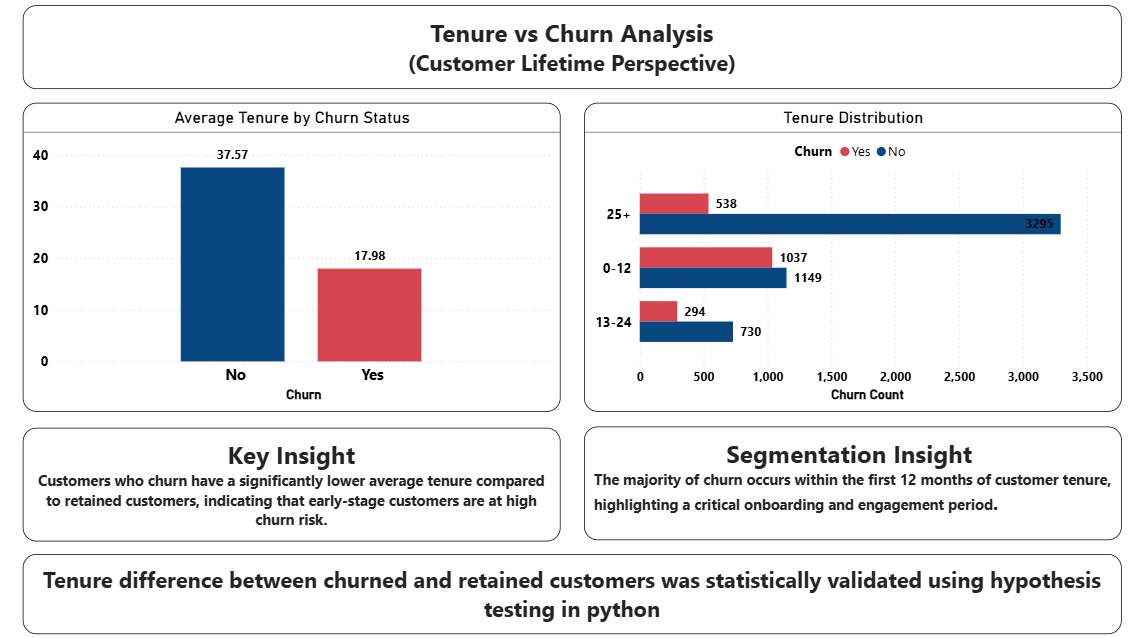

What the dashboard file says about the page in this screenshot:
{"tool":"powerbi","page":{"name":"Tenure vs Churn Analysis","canvas":[1280,720],"ordinal":1},"visuals":[{"type":"clusteredBarChart","title":"Tenure Distribution","fields":{"Category":["cleaned_churn.Tenure Group"],"Y":["CountNonNull(cleaned_churn.Churn)"],"Series":["cleaned_churn.Churn"]},"box":[653.2,124.9,590.1,338.9],"z":0},{"type":"clusteredColumnChart","title":"Average Tenure by Churn Status","fields":{"Category":["cleaned_churn.Churn"],"Y":["Avg(cleaned_churn.tenure)"]},"box":[37,124.9,590.1,338.9],"z":1000},{"type":"textbox","box":[37,481.6,590.1,124.9],"z":2000},{"type":"textbox","box":[653.2,480.3,590.1,124.9],"z":3000},{"type":"textbox","box":[37,17.8,1206.2,91.9],"z":4000},{"type":"textbox","box":[37,620.2,1206.2,87.8],"z":5000}]}

Visuals, with their boxes in screenshot pixels (x1, y1, x2, y2), scaled from the page's 1280x720 canvas onto the 1135x638 screenshot:
"Tenure Distribution" clusteredBarChart: 579:111:1102:411
"Average Tenure by Churn Status" clusteredColumnChart: 33:111:556:411
textbox: 33:427:556:537
textbox: 579:426:1102:536
textbox: 33:16:1102:97
textbox: 33:550:1102:627
